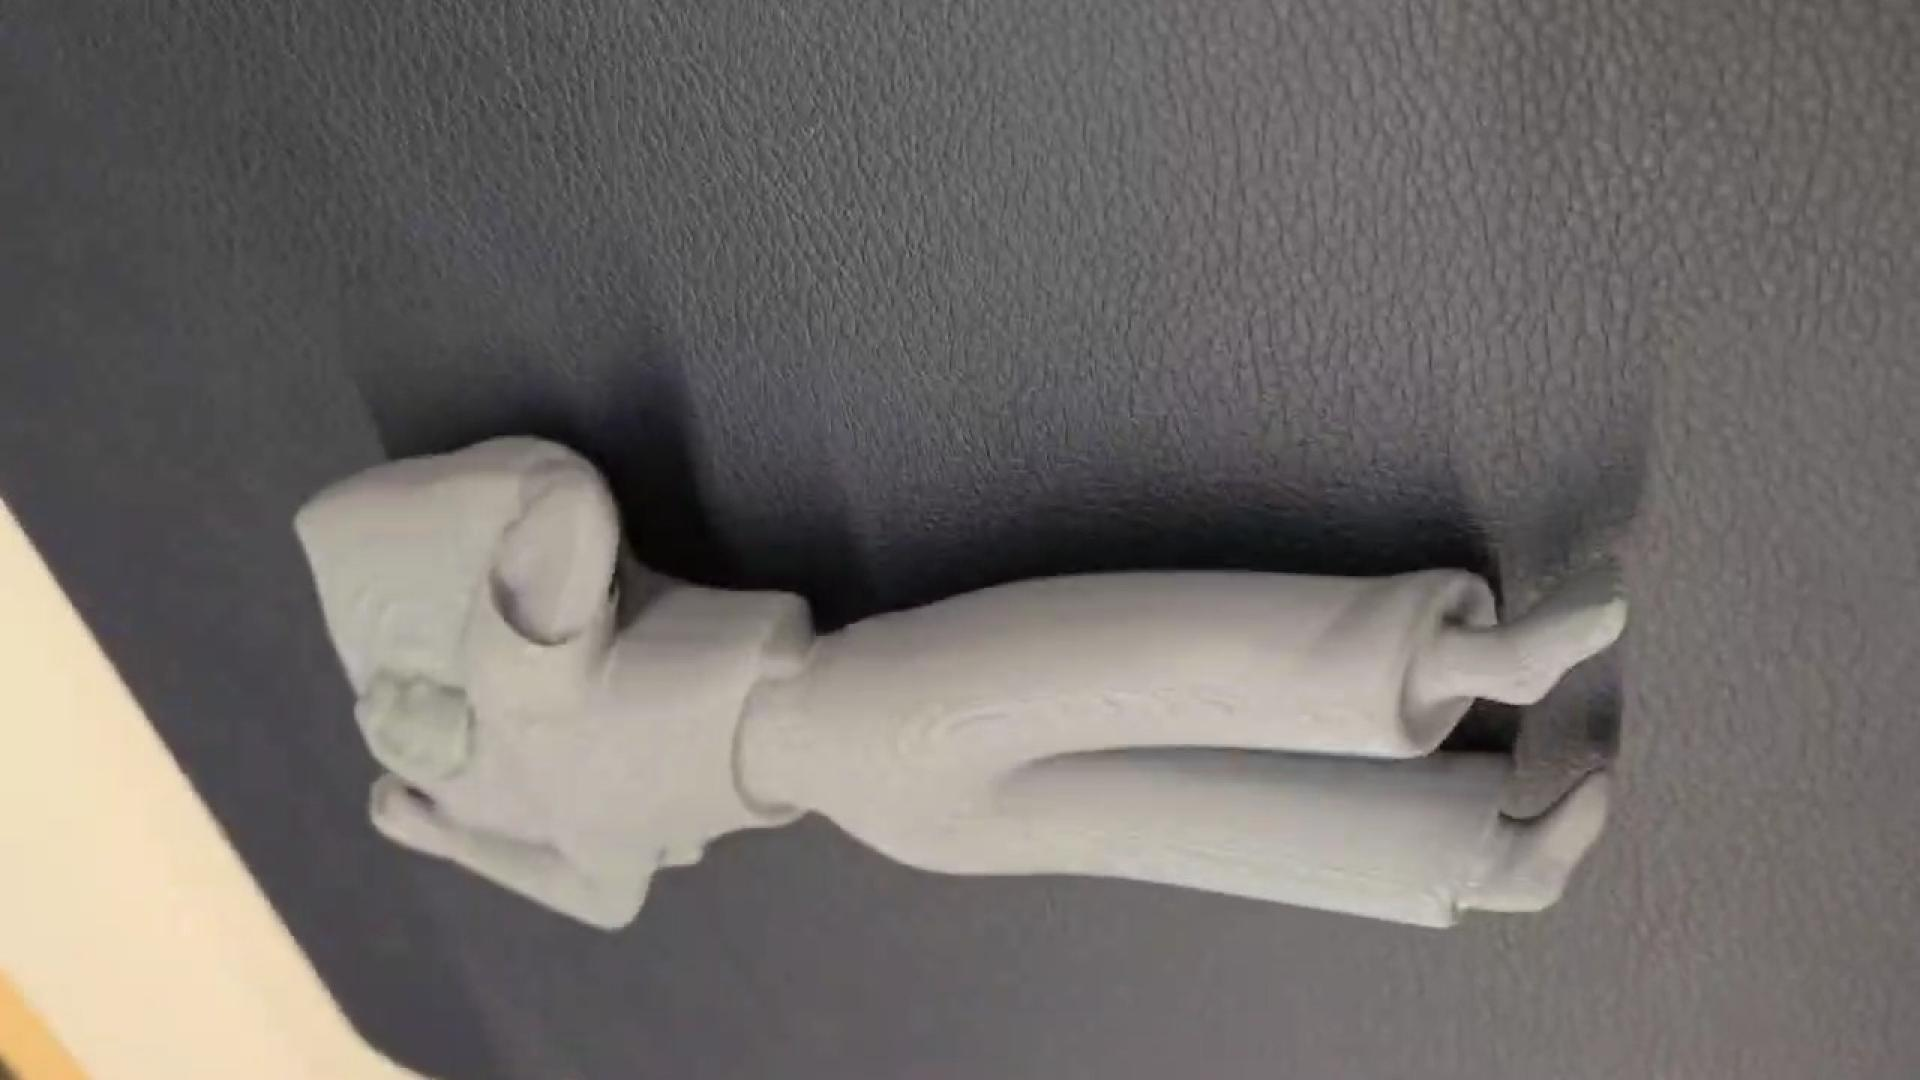Bad-style: (295, 434, 1634, 930)
